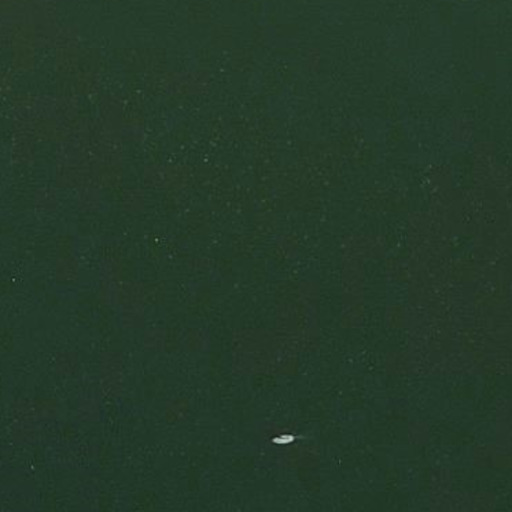ship: (267, 430, 299, 448)
